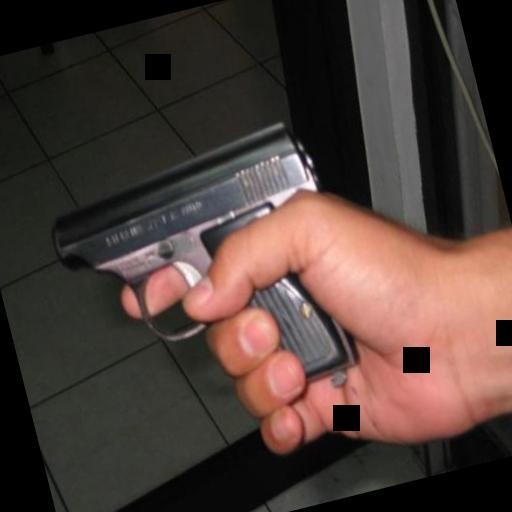Handgun: (34, 110, 370, 434)
